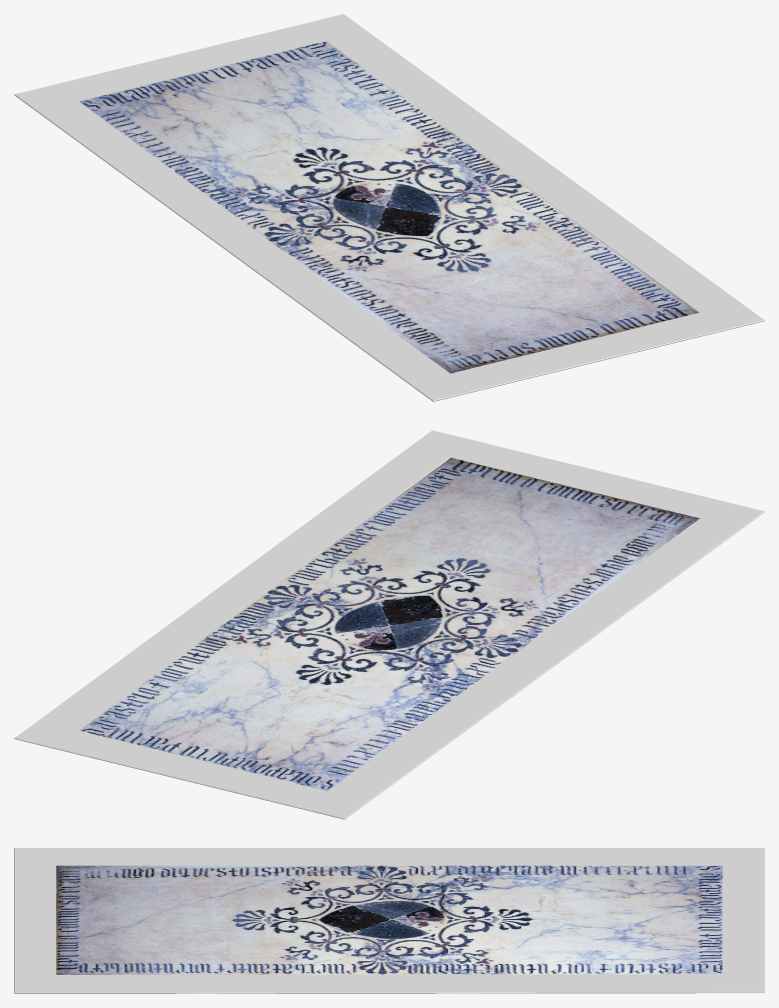
Rendered from innocenti_tomb-03.fbx.
The picture shows the model from 3 angles, top to bottom: view 1: azimuth 30°, elevation 25°; view 2: azimuth 150°, elevation 25°; view 3: azimuth 270°, elevation 25°; orthographic projection. The views are drawn at different scales.
Parts seen in each view (by area): view 1: geo_slab, geo_frame; view 2: geo_slab, geo_frame; view 3: geo_slab, geo_frame.
Part boxes in pixels (<box>): geo_slab: <box>79,41,698,373</box>; geo_frame: <box>14,14,764,401</box>; geo_slab: <box>79,458,699,790</box>; geo_frame: <box>14,430,764,819</box>; geo_slab: <box>56,865,722,974</box>; geo_frame: <box>14,848,764,993</box>.
Size of the model in its own units: 119 by 7 by 261.
